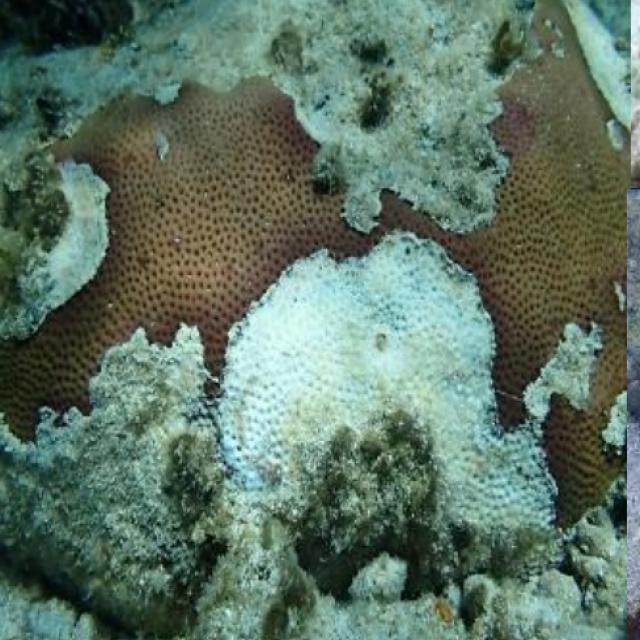Coral: (0, 0, 628, 529)
